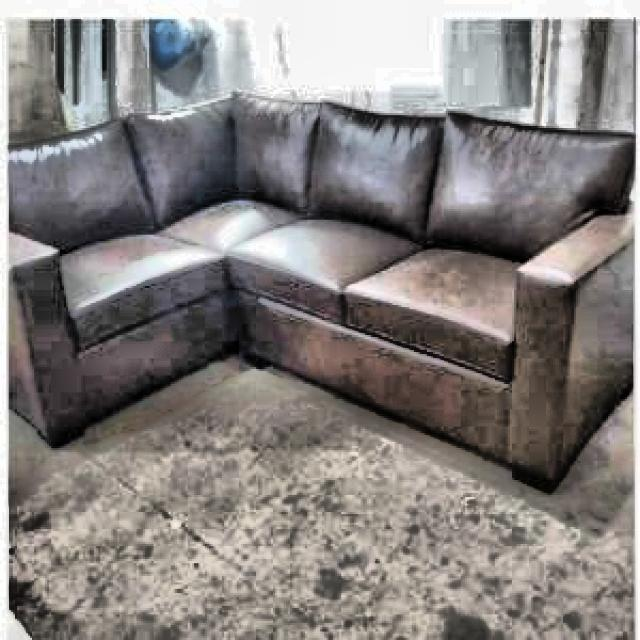sofa: (6, 87, 634, 495)
